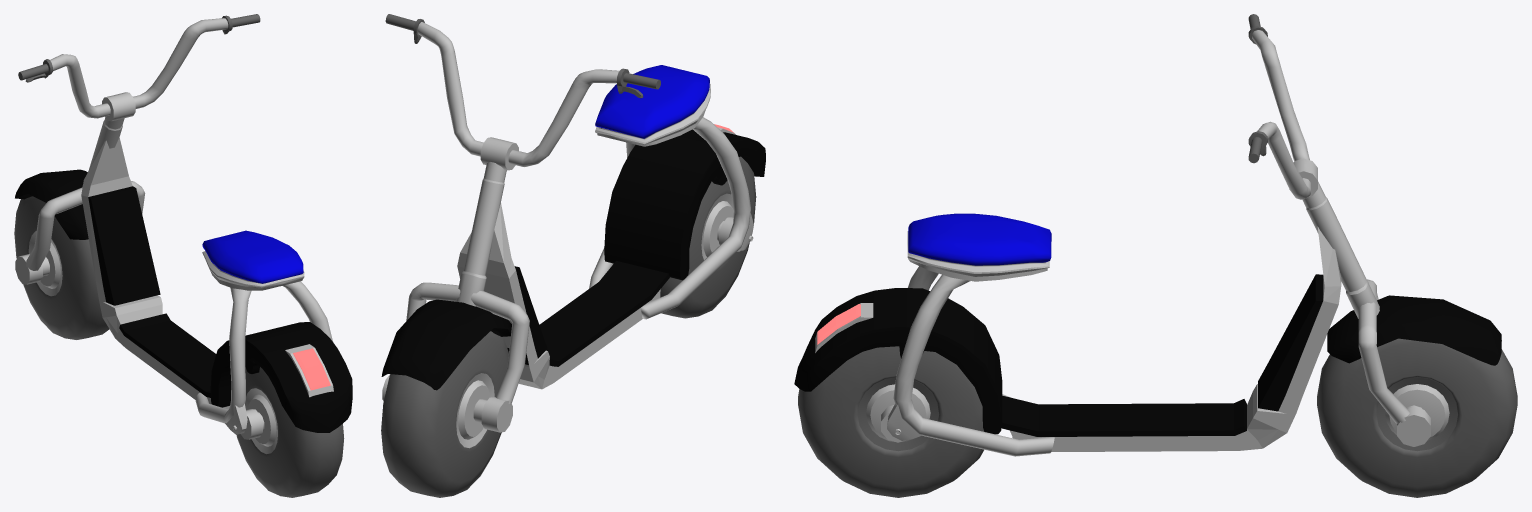
Rendered from Scooter UVS.fbx.
The picture shows the model from 3 angles, left to right: view 1: azimuth 30°, elevation 25°; view 2: azimuth 150°, elevation 25°; view 3: azimuth 270°, elevation 25°; orthographic projection. The views are drawn at different scales.
Parts seen in each view (by area): view 1: Base, Back_Fender, backTire2, backTire1, Seat, Handlebars, Seat_Supports, FrontFender, Axles, Backlight, axel, STEERINGPOLE (+2 smaller); view 2: backTire1, Back_Fender, Base, Handlebars, FrontFender, Seat, backTire2, Seat_Supports, Axles, STEERINGPOLE, axel; view 3: backTire1, Base, backTire2, Back_Fender, Seat, FrontFender, Seat_Supports, Handlebars, STEERINGPOLE, Axles, Backlight, axel.
Part boxes in pixels (box(x1,y1,x2,y2)): Base: box(81, 137, 229, 409); Back_Fender: box(210, 322, 352, 432); backTire2: box(236, 367, 344, 497); backTire1: box(14, 196, 109, 339); Seat: box(202, 230, 304, 290); Handlebars: box(18, 14, 260, 121); Seat_Supports: box(195, 281, 332, 423); FrontFender: box(15, 169, 88, 239); Axles: box(26, 181, 145, 270); Backlight: box(285, 344, 333, 397); axel: box(15, 254, 49, 284); STEERINGPOLE: box(82, 118, 124, 187); backTire1: box(381, 331, 508, 497); Back_Fender: box(604, 129, 765, 280); Base: box(457, 202, 669, 389); Handlebars: box(385, 14, 660, 170); FrontFender: box(381, 299, 511, 390); Seat: box(595, 65, 710, 146); backTire2: box(660, 156, 756, 318); Seat_Supports: box(589, 117, 750, 319); Axles: box(406, 282, 529, 404); STEERINGPOLE: box(455, 162, 506, 306); axel: box(382, 374, 512, 432); backTire1: box(1317, 338, 1517, 497); Base: box(1001, 226, 1341, 451); backTire2: box(798, 346, 984, 497); Back_Fender: box(794, 288, 1002, 434); Seat: box(907, 213, 1051, 281); FrontFender: box(1327, 295, 1501, 365); Seat_Supports: box(893, 266, 1054, 456); Handlebars: box(1248, 14, 1317, 199); STEERINGPOLE: box(1302, 181, 1379, 318); Axles: box(1358, 279, 1409, 423); Backlight: box(815, 303, 873, 352); axel: box(1397, 405, 1430, 446).
Bounding box in the file's own units: 6.83 × 9.42 × 14.96.
